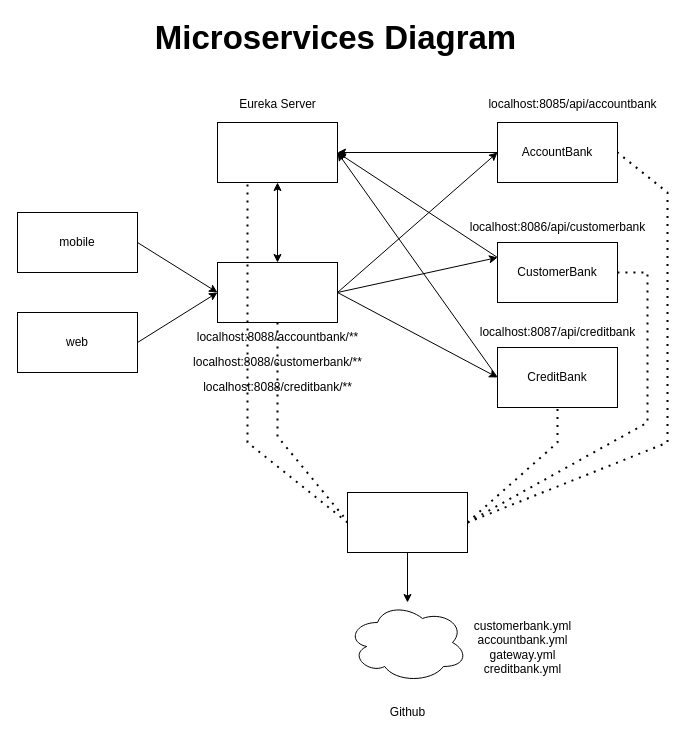
The diagram is 687 pixels wide and 744 high, and some of its shapes have lost their labels. The centre of each missing label's shape, as x and y in pixels:
"config-server" belongs at (x=407, y=522).
"discovery" belongs at (x=277, y=152).
"gateway" belongs at (x=277, y=292).
